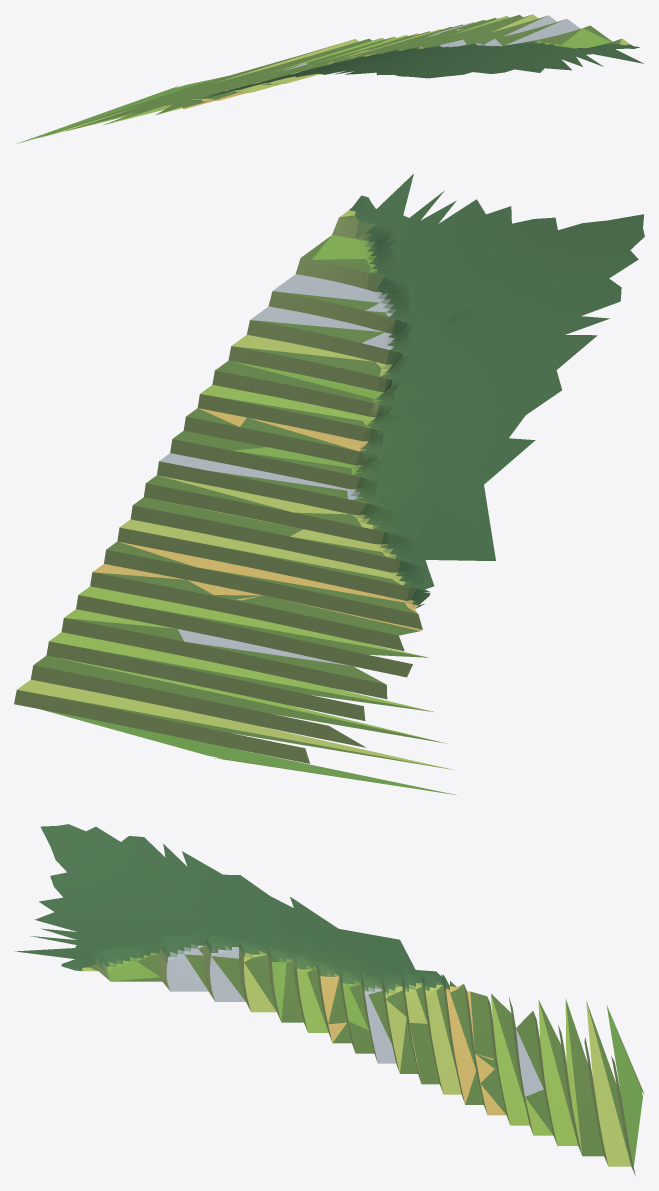
Rendered from payo_land_xm5_y9.glb.
3 renders of one model, top to bottom at view 1: azimuth 30°, elevation 25°; view 2: azimuth 150°, elevation 25°; view 3: azimuth 270°, elevation 25°, orthographic. The views are drawn at different scales.
Visible parts, largest first — view 1: payo_land_xm5_y9; view 2: payo_land_xm5_y9; view 3: payo_land_xm5_y9.
Boxes of the visible parts, bbox=[...] form: payo_land_xm5_y9: bbox=[15, 14, 644, 144]; payo_land_xm5_y9: bbox=[14, 174, 644, 795]; payo_land_xm5_y9: bbox=[15, 824, 644, 1175].
Bounding box in the file's own units: 180 × 117 × 278.
